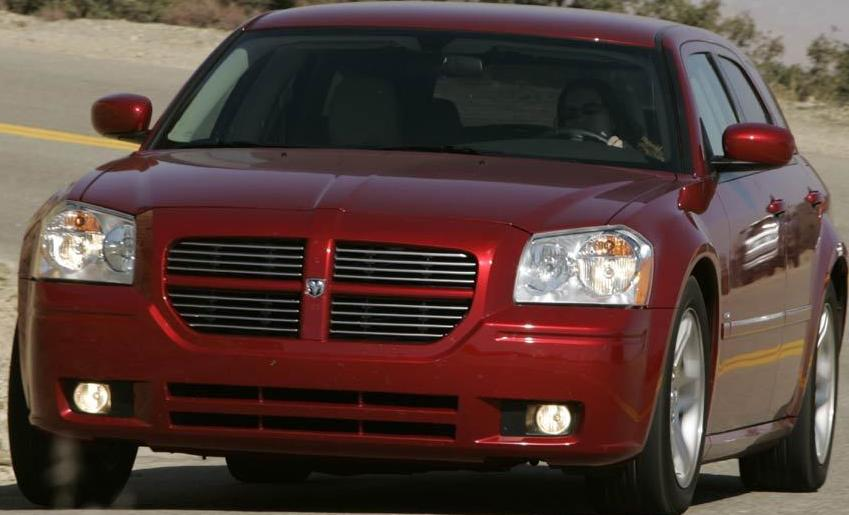front_view: (22, 183, 666, 471)
headlight: (487, 206, 662, 324)
side_glass: (666, 39, 810, 175)
